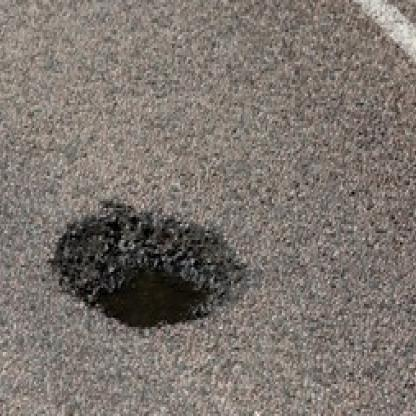pothole: (44, 192, 249, 334)
